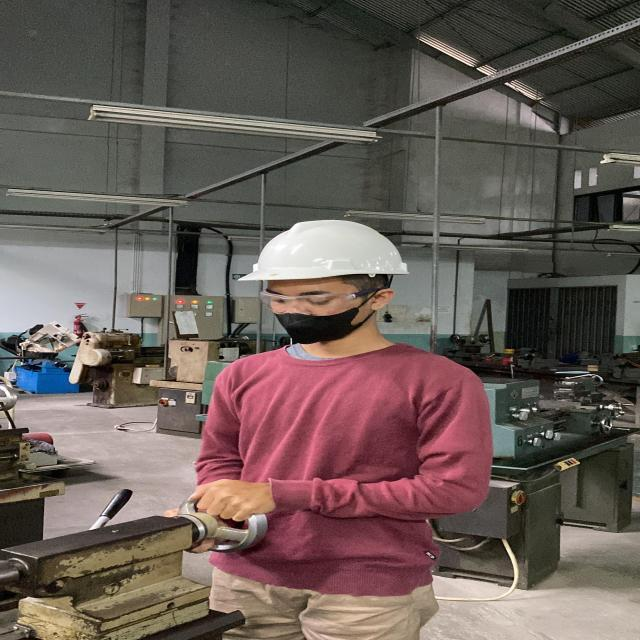glasses: (252, 286, 383, 316)
